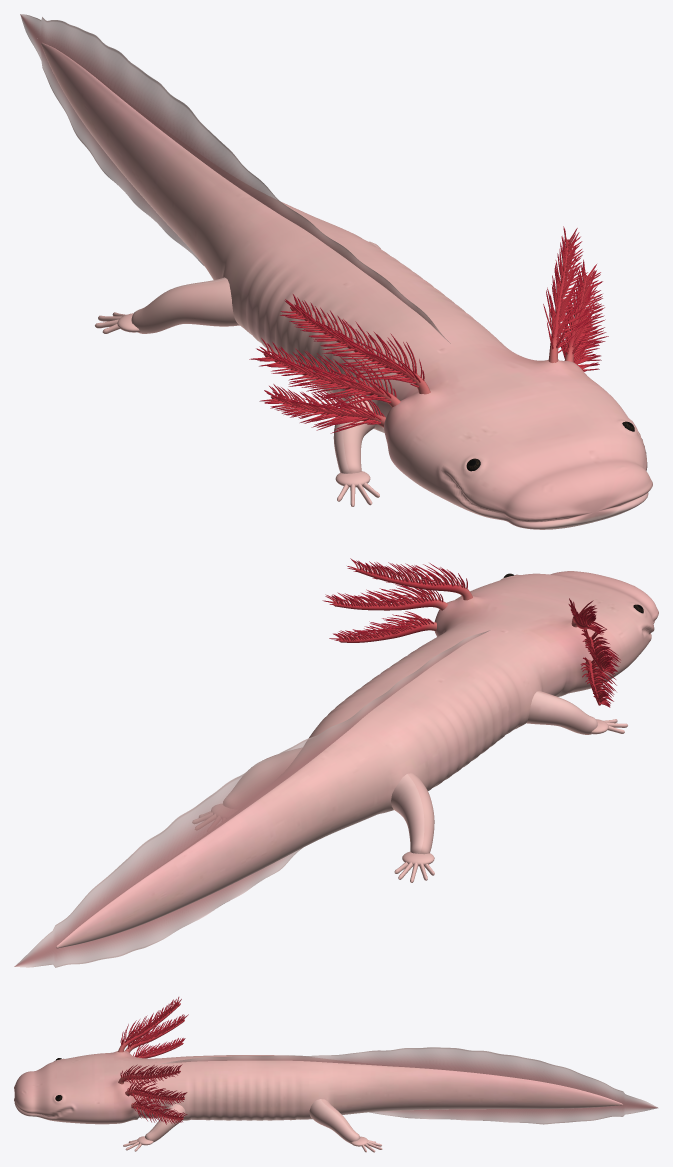
The model's file is axolotl.glb.
3 renders of one model, top to bottom at view 1: azimuth 30°, elevation 25°; view 2: azimuth 150°, elevation 25°; view 3: azimuth 270°, elevation 25°, orthographic. The views are drawn at different scales.
Visible parts, largest first — view 1: axolotl.body, axolotl.gills_r, axolotl.fin_dorsal, axolotl.gills_l, axolotl.leg_hr, axolotl.fin_ventral, axolotl.leg_fr; view 2: axolotl.body, axolotl.fin_dorsal, axolotl.gills_l, axolotl.fin_ventral, axolotl.leg_hr, axolotl.gills_r, axolotl.leg_fr, axolotl.leg_hl; view 3: axolotl.body, axolotl.fin_dorsal, axolotl.fin_ventral, axolotl.gills_l, axolotl.gills_r, axolotl.leg_hl, axolotl.leg_fl.
Boxes of the visible parts, <box> form: axolotl.body: <box>41,42,652,529</box>; axolotl.gills_r: <box>249,294,430,433</box>; axolotl.fin_dorsal: <box>20,14,450,343</box>; axolotl.gills_l: <box>543,226,608,371</box>; axolotl.leg_hr: <box>95,277,239,333</box>; axolotl.fin_ventral: <box>20,15,203,265</box>; axolotl.leg_fr: <box>333,392,379,506</box>; axolotl.body: <box>56,571,658,948</box>; axolotl.fin_dorsal: <box>14,630,490,966</box>; axolotl.gills_l: <box>322,558,472,642</box>; axolotl.fin_ventral: <box>14,848,302,967</box>; axolotl.leg_hr: <box>391,773,434,882</box>; axolotl.gills_r: <box>568,598,620,707</box>; axolotl.leg_fr: <box>526,690,627,734</box>; axolotl.leg_hl: <box>192,747,302,829</box>; axolotl.body: <box>14,1050,622,1124</box>; axolotl.fin_dorsal: <box>159,1047,657,1107</box>; axolotl.fin_ventral: <box>369,1104,658,1124</box>; axolotl.gills_l: <box>118,1064,187,1124</box>; axolotl.gills_r: <box>118,997,188,1058</box>; axolotl.leg_hl: <box>309,1099,382,1152</box>; axolotl.leg_fl: <box>123,1104,185,1151</box>.
Size of the model in its own units: 0.0831 by 0.0397 by 0.2646.
Materials: 4 (3 with a texture image).
